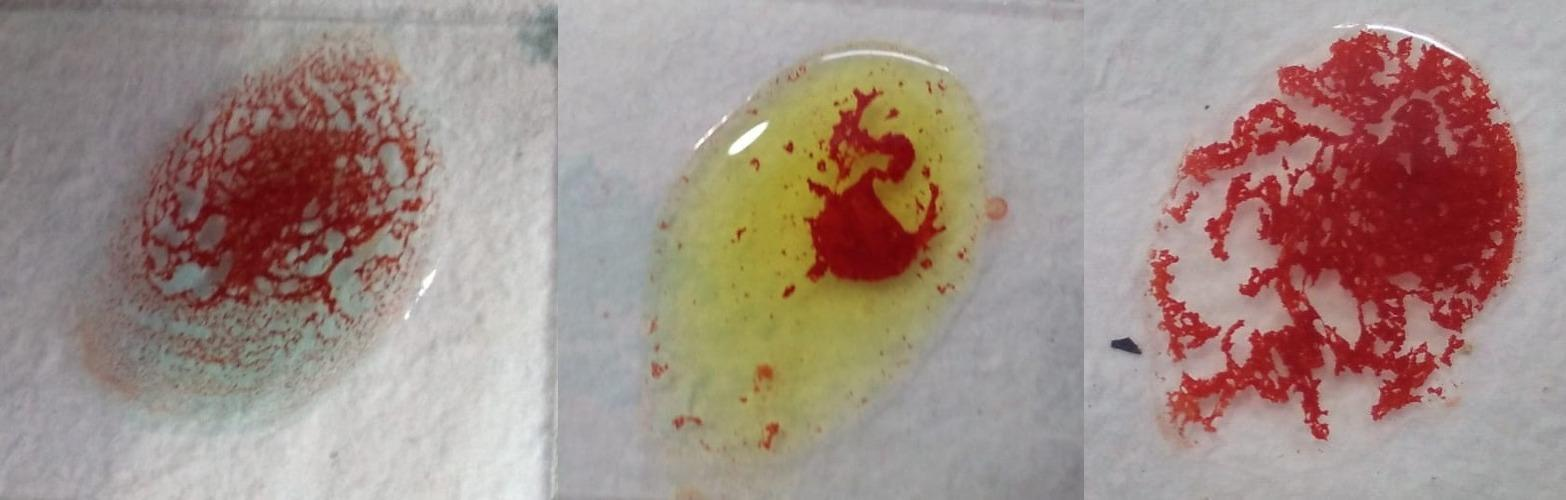A: (93, 37, 449, 423)
B: (651, 43, 967, 417)
D: (1171, 24, 1523, 453)
